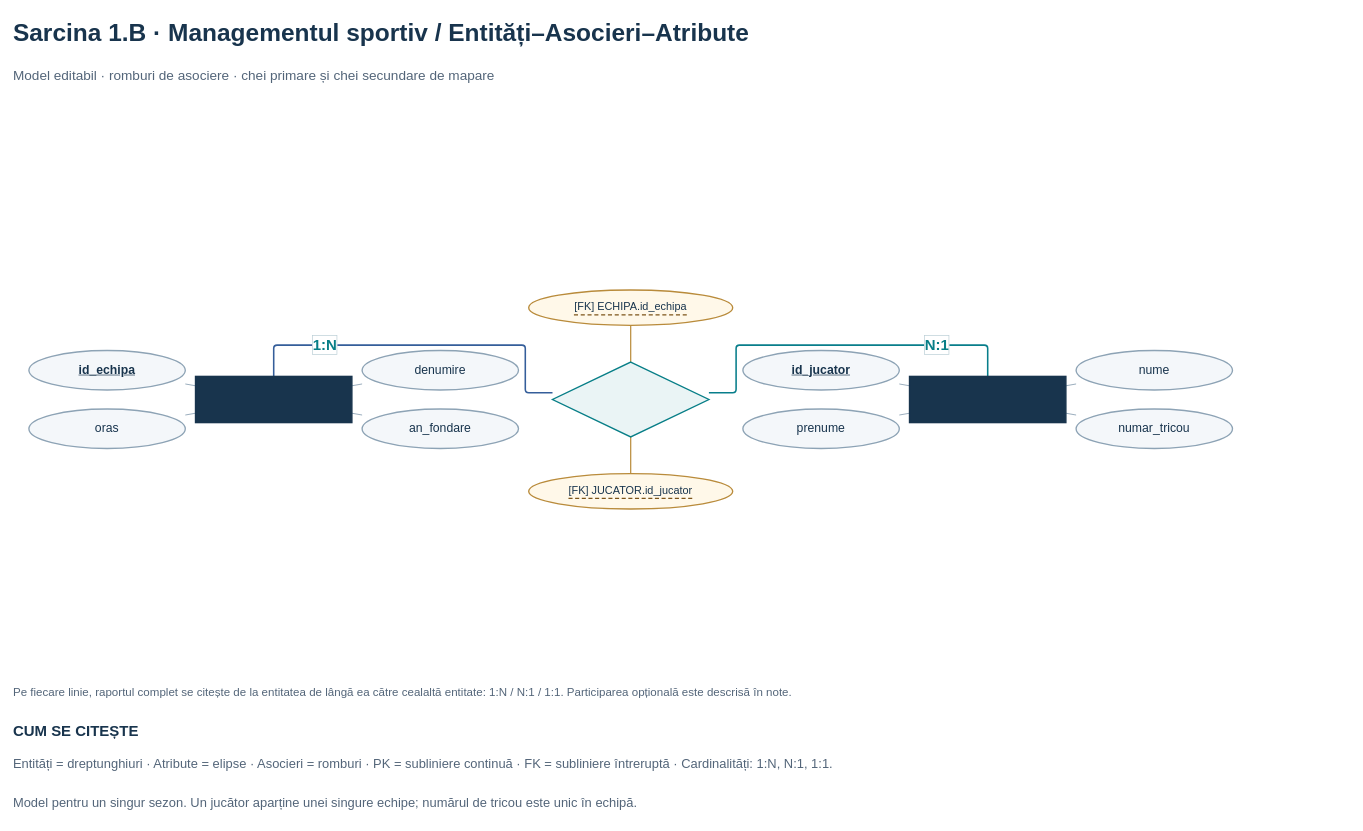
This 1363x831 diagram has some shape labels left out. The shapes that lost their labels are listed below. From the top down, each one's box as (x1, y1, x2, y2) in pixels, then its label:
(194, 375, 352, 423): ECHIPA
(551, 361, 709, 437): Legitimează
(908, 375, 1066, 423): JUCATOR
